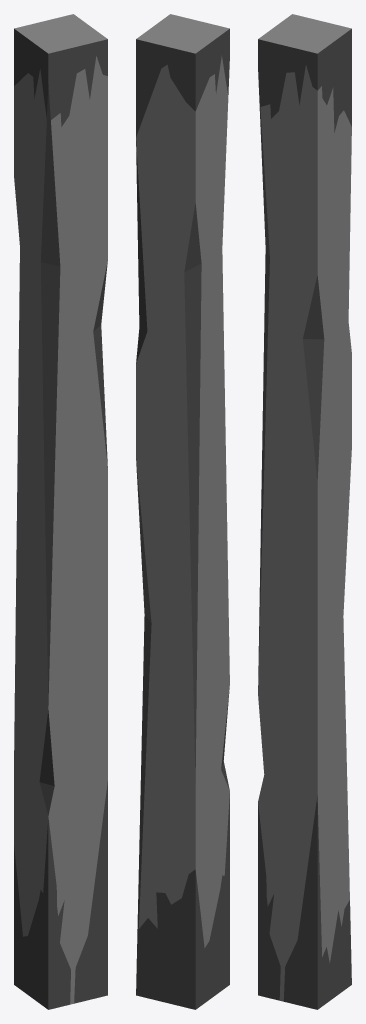
The model's file is builder_5.FBX.
3 renders of one model, left to right at view 1: azimuth 30°, elevation 25°; view 2: azimuth 150°, elevation 25°; view 3: azimuth 330°, elevation 25°, orthographic.
Parts seen in each view (by area): view 1: builder_5; view 2: builder_5; view 3: builder_5.
Part boxes in pixels (x1,y1,x2,y2): builder_5: (14, 14, 107, 1009); builder_5: (136, 14, 229, 1009); builder_5: (258, 14, 351, 1009).
Size of the model in its own units: 5.05 by 77.51 by 5.05.
